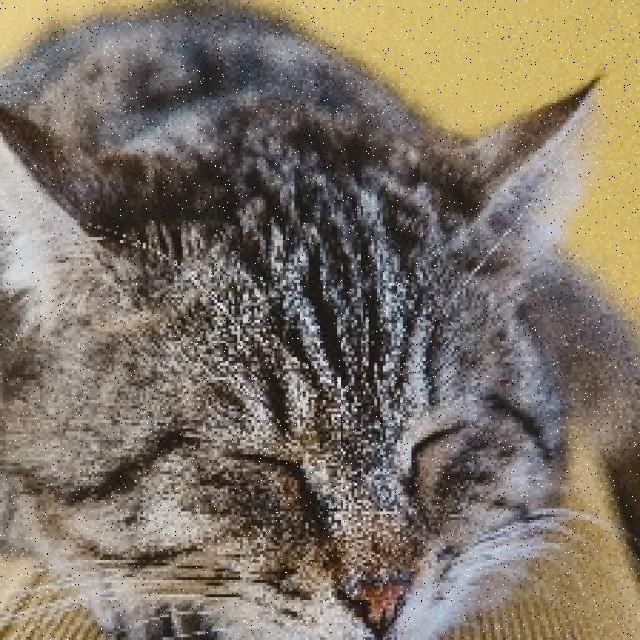Happy: (97, 332, 560, 640)
